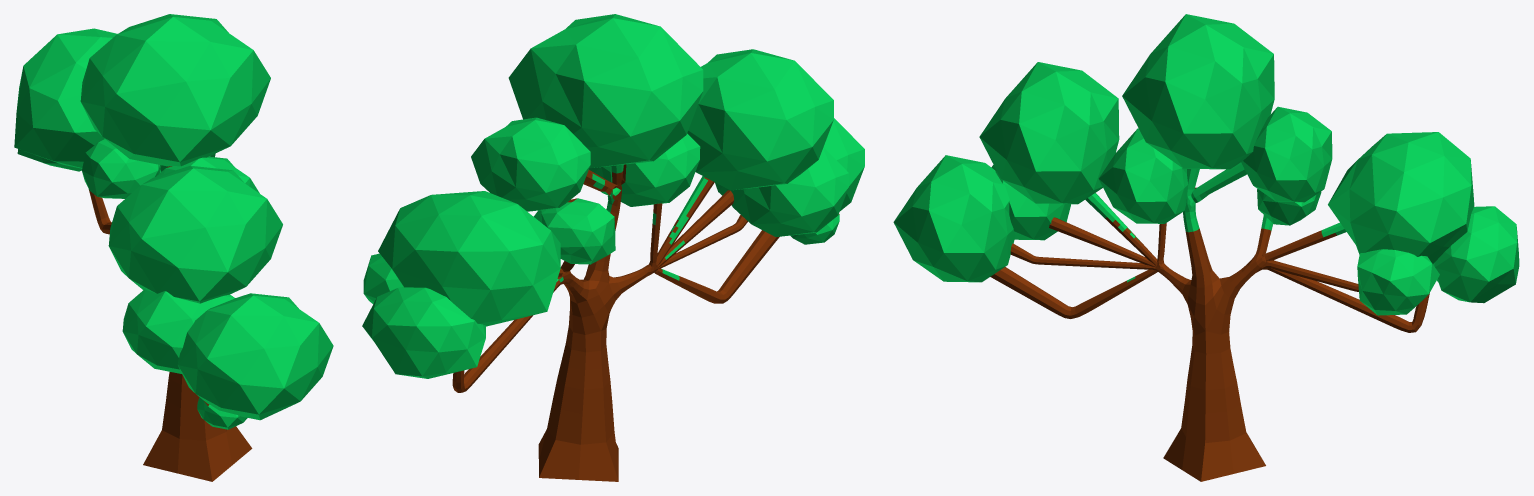
File: 2tree for assignment 2.fbx
3 renders of one model, left to right at view 1: azimuth 30°, elevation 25°; view 2: azimuth 150°, elevation 25°; view 3: azimuth 270°, elevation 25°, orthographic. The views are drawn at different scales.
Parts seen in each view (by area): view 1: Tree 1; view 2: Tree 1; view 3: Tree 1.
Part boxes in pixels (box(x1,y1,x2,y2)): Tree 1: box(14, 14, 333, 481); Tree 1: box(362, 14, 864, 481); Tree 1: box(893, 14, 1519, 481).
Size of the model in its own units: 777 by 1196 by 1594.
